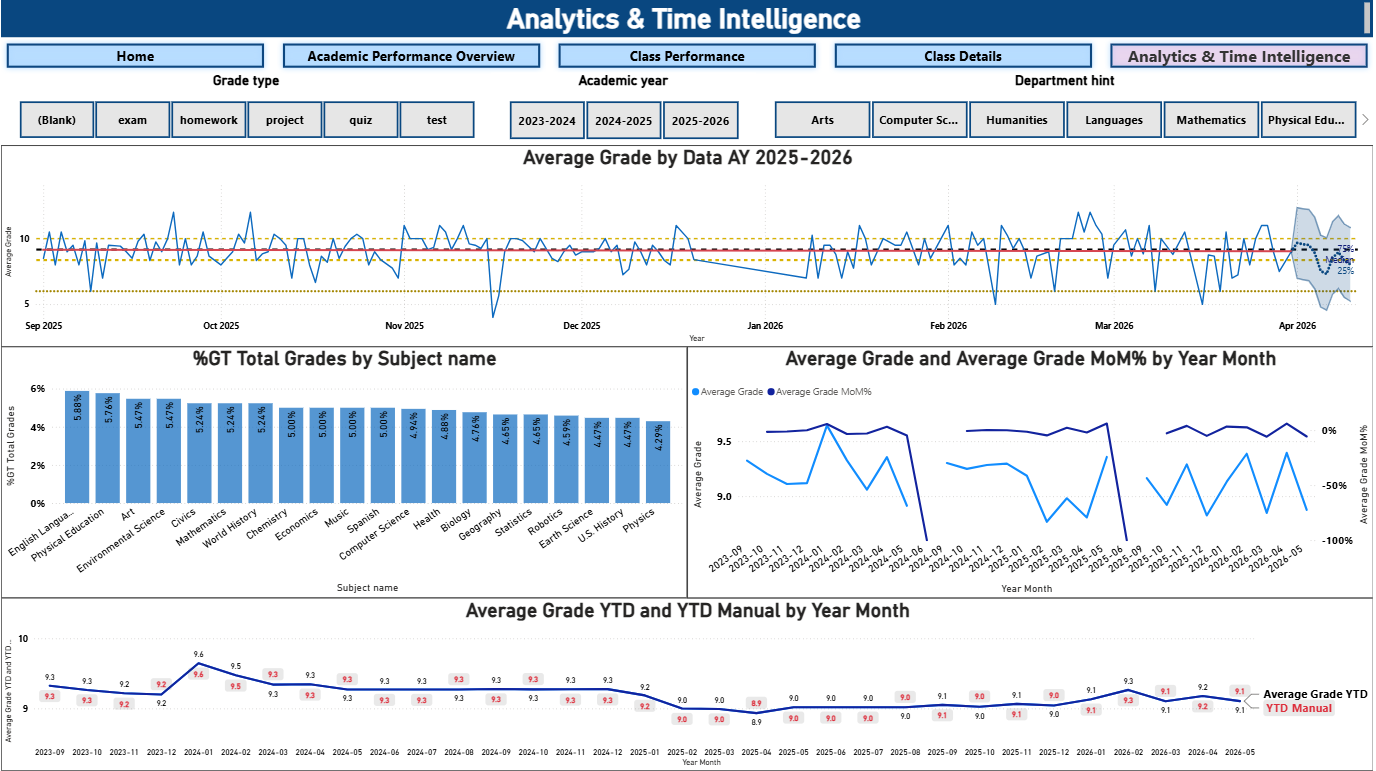

This screenshot's page, from the dashboard's own definition file:
{"tool":"powerbi","page":{"name":"Analytics & Time Intelligence","canvas":[1920,1080],"ordinal":5},"visuals":[{"type":"textbox","box":[0,0,1920.4,53.5],"z":0},{"type":"lineChart","title":"Average Grade by Data AY 2025-2026","fields":{"Category":["Calendar.Date.Variation.Date Hierarchy.Year","Calendar.Date.Variation.Date Hierarchy.Quarter","Calendar.Date.Variation.Date Hierarchy.Month","Calendar.Date.Variation.Date Hierarchy.Day"],"Y":["Avg(grades.grade_value)"]},"box":[0,204,1920,282],"z":1000},{"type":"columnChart","fields":{"Category":["subjects.subject_name"],"Y":["_Measures.Total Grades"]},"box":[0,486,960,352],"z":2000},{"type":"lineChart","fields":{"Category":["Calendar.YearMonth"],"Y":["_Measures.Average Grade YTD","_Measures.YTD_Manual"]},"box":[0,838,1920,242],"z":3000},{"type":"lineChart","fields":{"Category":["Calendar.YearMonth"],"Y":["_Measures.Average Grade"],"Y2":["_Measures.Average Grade MoM%"]},"box":[960,486,960,352],"z":4000},{"type":"slicer","title":"Grade type","fields":{"Values":["grades.grade_type"]},"box":[0,104,686,98],"z":5000},{"type":"slicer","title":"Department hint","fields":{"Values":["subjects.department_hint"]},"box":[1056,104,864,98],"z":6000},{"type":"pageNavigator","box":[0,54,1920,50],"z":6500},{"type":"slicer","title":"Academic year","fields":{"Values":["periods.academic_year"]},"box":[686,104,370,100],"z":7000}]}

Visuals, with their boxes in screenshot pixels (x1, y1, x2, y2), scaled from the page's 1920x1080 canvas onto the 1376x771 screenshot:
textbox: <box>0,0,1375,38</box>
"Average Grade by Data AY 2025-2026" lineChart: <box>0,146,1375,347</box>
columnChart - subjects.subject_name x _Measures.Total Grades: <box>0,347,688,598</box>
lineChart - Calendar.YearMonth x _Measures.Average Grade YTD: <box>0,598,1375,770</box>
lineChart - Calendar.YearMonth x _Measures.Average Grade: <box>688,347,1375,598</box>
"Grade type" slicer: <box>0,74,492,144</box>
"Department hint" slicer: <box>757,74,1375,144</box>
pageNavigator: <box>0,39,1375,74</box>
"Academic year" slicer: <box>492,74,757,146</box>
